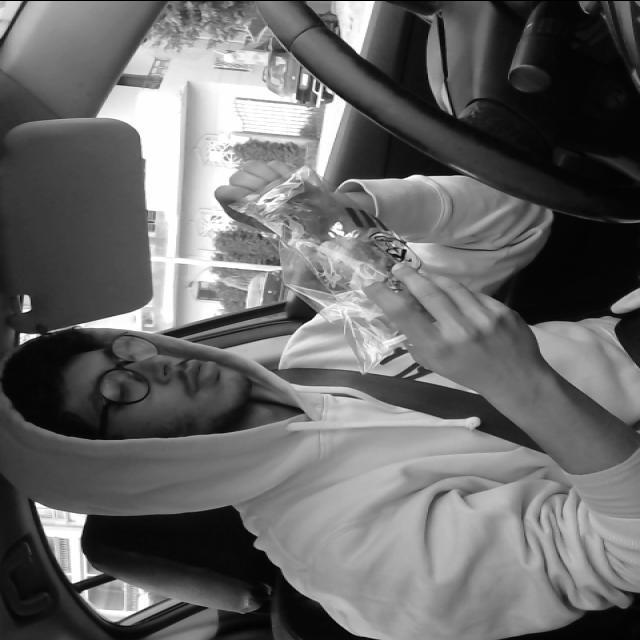eating: (224, 160, 454, 377)
